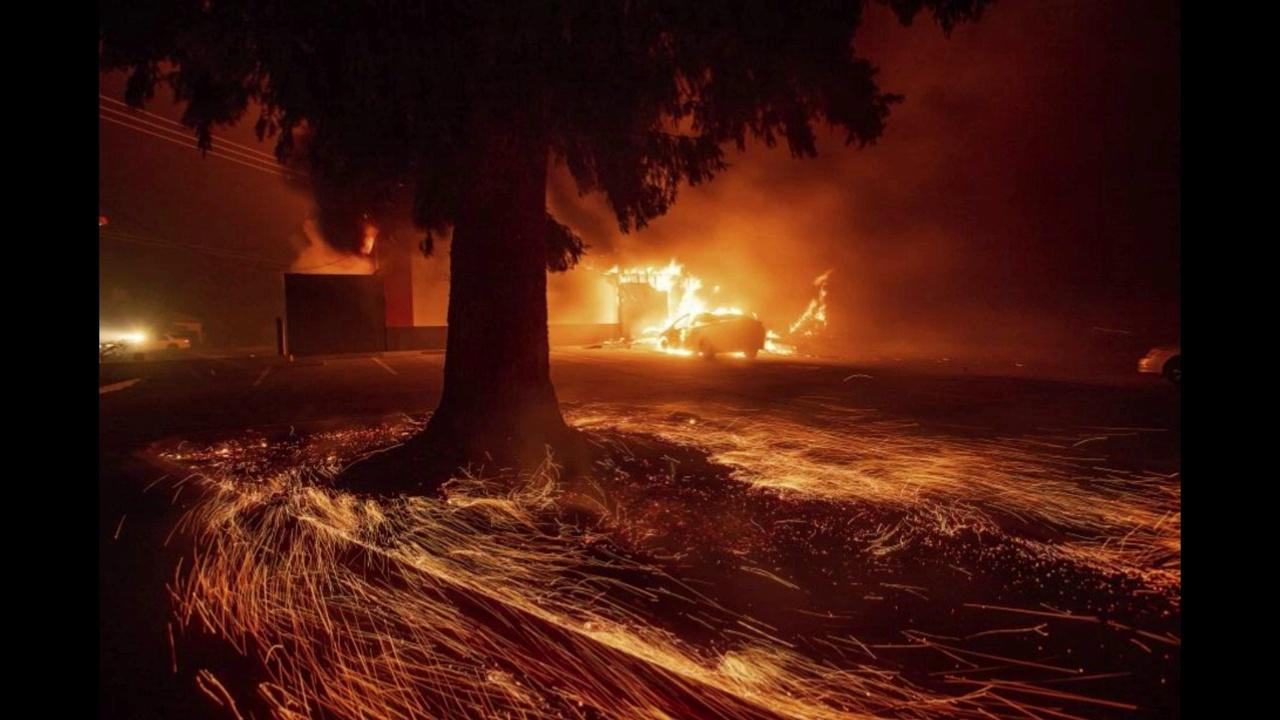Fire: (639, 260, 704, 350), (788, 273, 840, 336), (710, 307, 749, 318), (766, 329, 781, 351)
